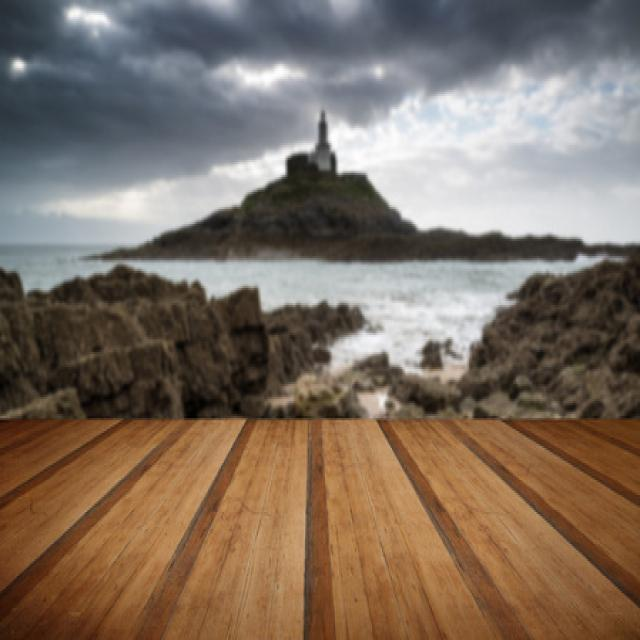island: (92, 99, 574, 271)
